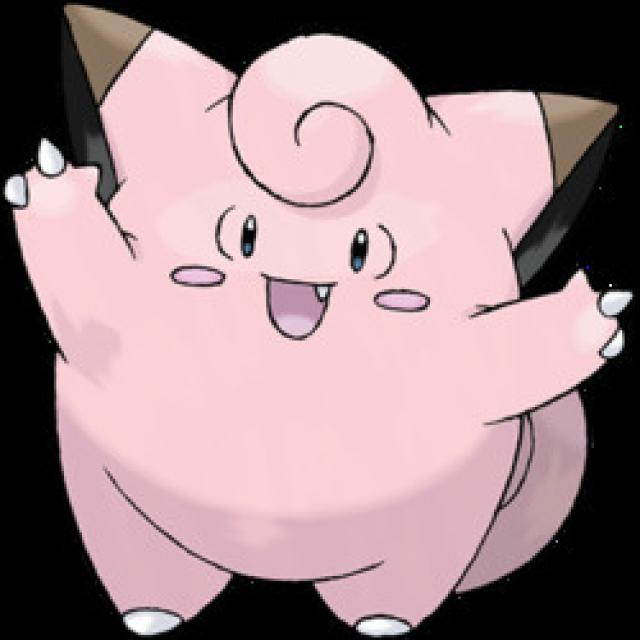Clefairy: (10, 9, 628, 632)
